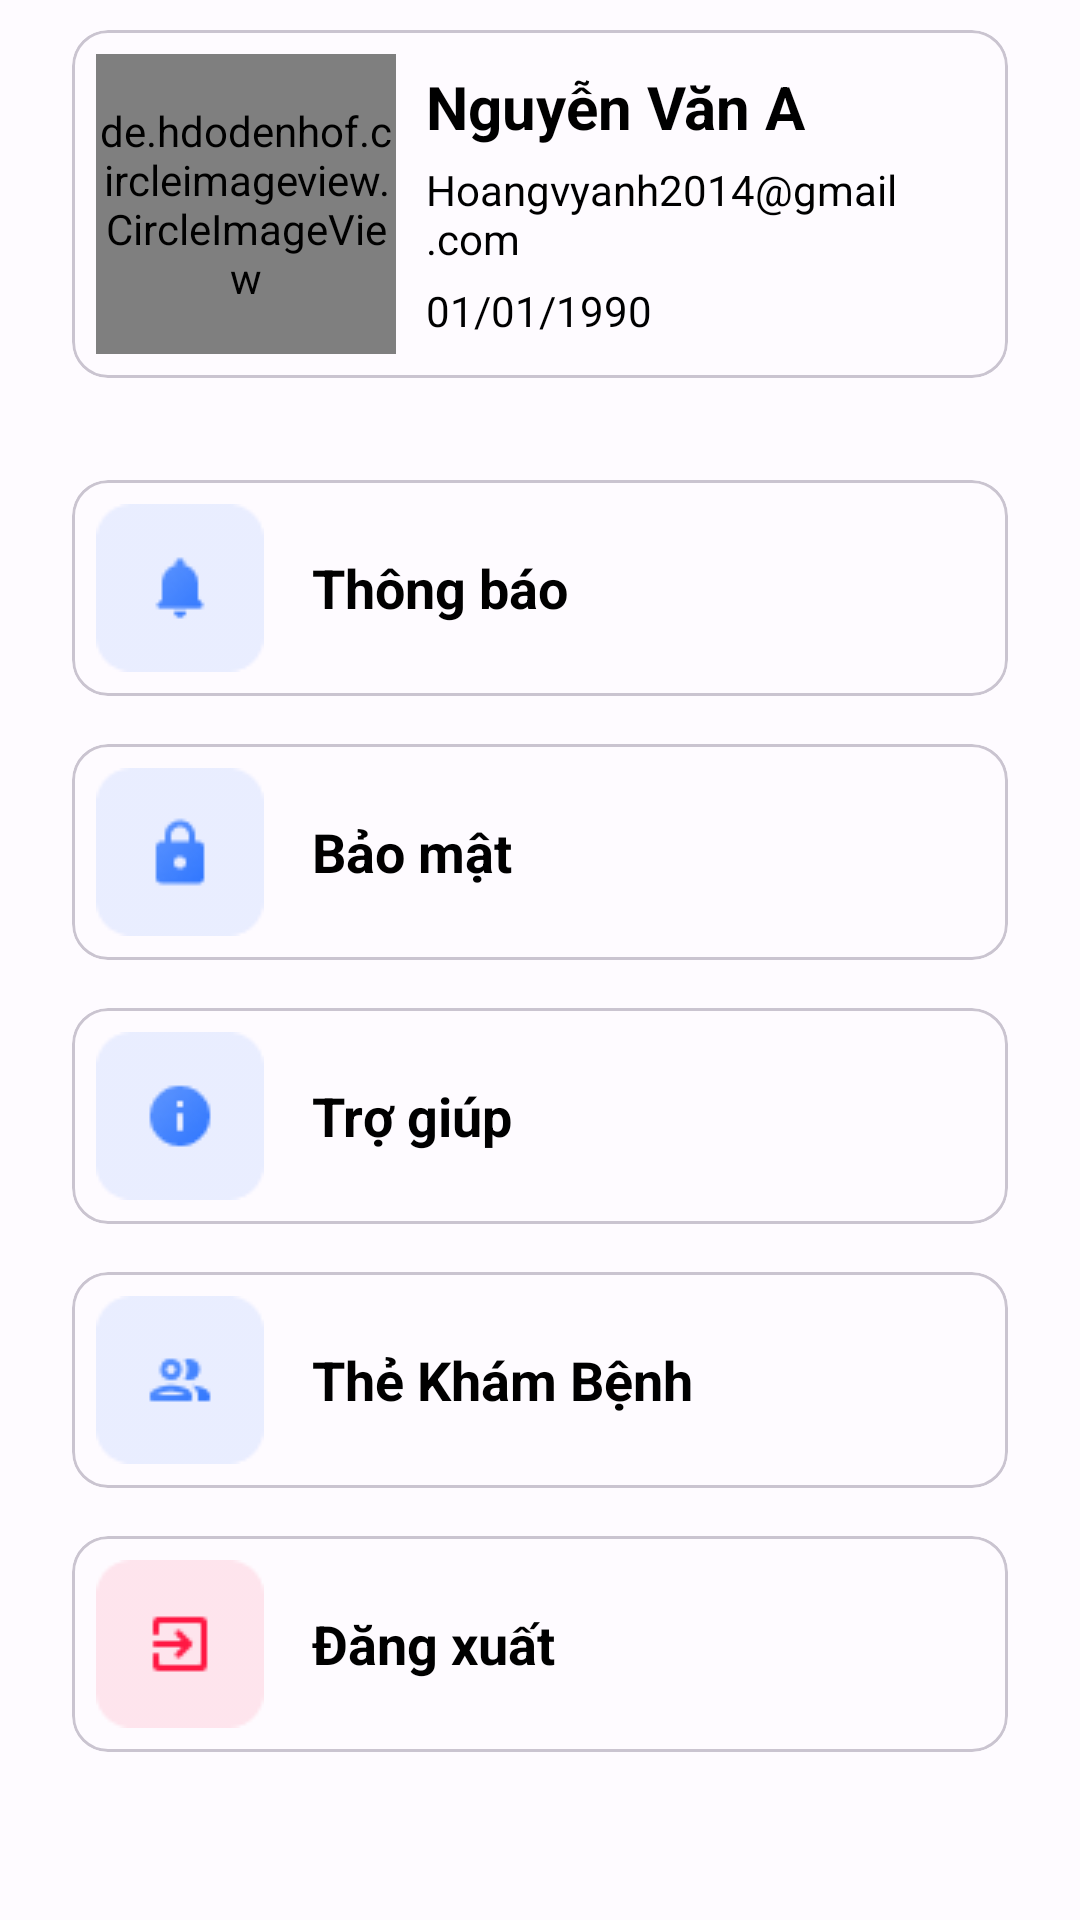

Point at icon controls on the screen. Image size 1080w x 1920h, points as [x,y].
help: [180,1116]
invite: [180,1380]
notifi: [180,588]
security: [180,852]
